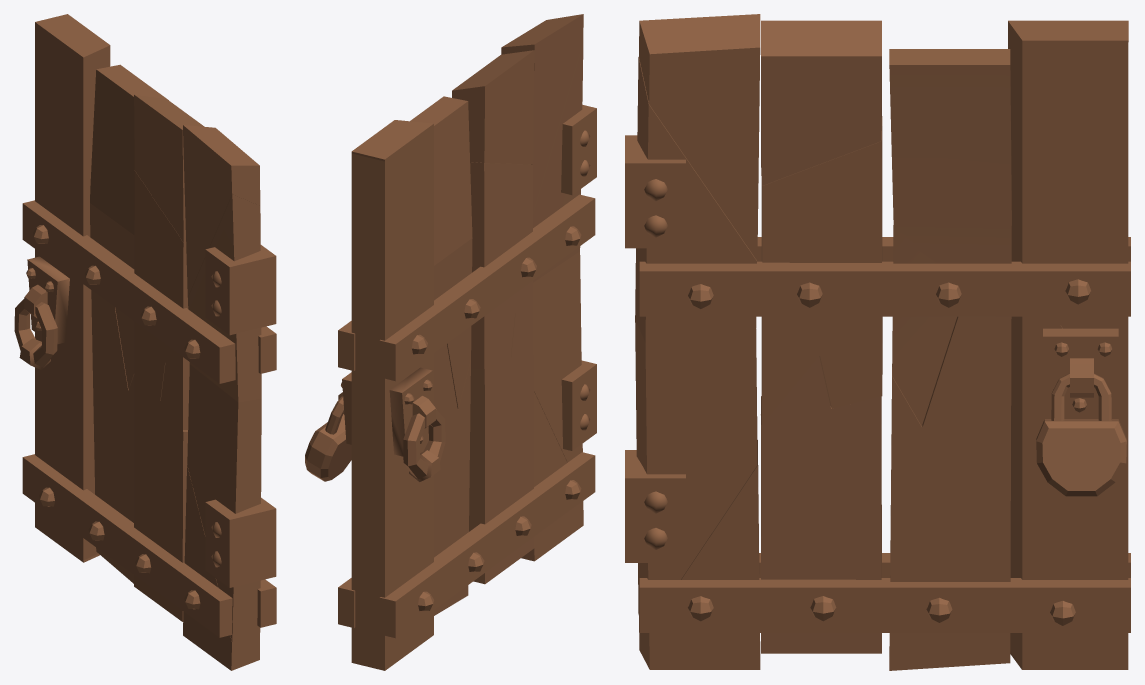
The model's file is broken door with lock fix.fbx.
3 views of the same model, side by side, from view 1: azimuth 30°, elevation 25°; view 2: azimuth 150°, elevation 25°; view 3: azimuth 270°, elevation 25° (orthographic). The views are drawn at different scales.
Visible parts, largest first — view 1: polySurface333, polySurface333.009, polySurface333.007, polySurface333.011, polySurface333.016, polySurface333.015, polySurface333.017, polySurface333.014, polySurface333.004, polySurface333.018, polySurface333.008, polySurface333.013 (+5 smaller); view 2: polySurface333.018, polySurface333.015, polySurface333.011, polySurface333, polySurface333.009, polySurface333.014, polySurface333.016, polySurface333.013, polySurface333.004, polySurface333.017, polySurface333.008, polySurface333.007 (+7 smaller); view 3: polySurface333, polySurface333.017, polySurface333.016, polySurface333.009, polySurface333.010, polySurface333.015, polySurface333.014, polySurface333.008, polySurface333.018, polySurface333.005, polySurface333.013, polySurface333.007 (+4 smaller).
Part boxes in pixels (x1,y1,x2,y2): polySurface333: [35, 14, 110, 560]; polySurface333.009: [187, 364, 276, 642]; polySurface333.007: [188, 194, 276, 402]; polySurface333.011: [22, 454, 232, 637]; polySurface333.016: [90, 64, 168, 390]; polySurface333.015: [134, 363, 187, 621]; polySurface333.017: [91, 290, 134, 583]; polySurface333.014: [134, 171, 189, 431]; polySurface333.004: [75, 250, 235, 383]; polySurface333.018: [35, 25, 99, 562]; polySurface333.008: [183, 125, 260, 297]; polySurface333.013: [134, 94, 204, 242]; polySurface333.018: [351, 153, 433, 670]; polySurface333.015: [469, 313, 534, 584]; polySurface333.011: [379, 452, 595, 638]; polySurface333: [351, 120, 433, 630]; polySurface333.009: [533, 251, 596, 462]; polySurface333.014: [470, 162, 533, 368]; polySurface333.016: [410, 96, 472, 407]; polySurface333.013: [452, 50, 534, 164]; polySurface333.004: [448, 194, 595, 342]; polySurface333.017: [434, 343, 470, 615]; polySurface333.008: [501, 14, 583, 212]; polySurface333.007: [533, 43, 596, 282]; polySurface333: [1008, 20, 1128, 669]; polySurface333.017: [889, 316, 1011, 670]; polySurface333.016: [889, 49, 1011, 427]; polySurface333.009: [625, 319, 757, 615]; polySurface333.010: [639, 578, 1130, 632]; polySurface333.015: [760, 356, 881, 653]; polySurface333.014: [761, 126, 882, 424]; polySurface333.008: [639, 14, 760, 260]; polySurface333.018: [1010, 42, 1128, 669]; polySurface333.005: [639, 261, 1000, 316]; polySurface333.013: [761, 20, 882, 185]; polySurface333.007: [625, 57, 756, 342].
Size of the model in its own units: 53.47 by 219 by 158.
